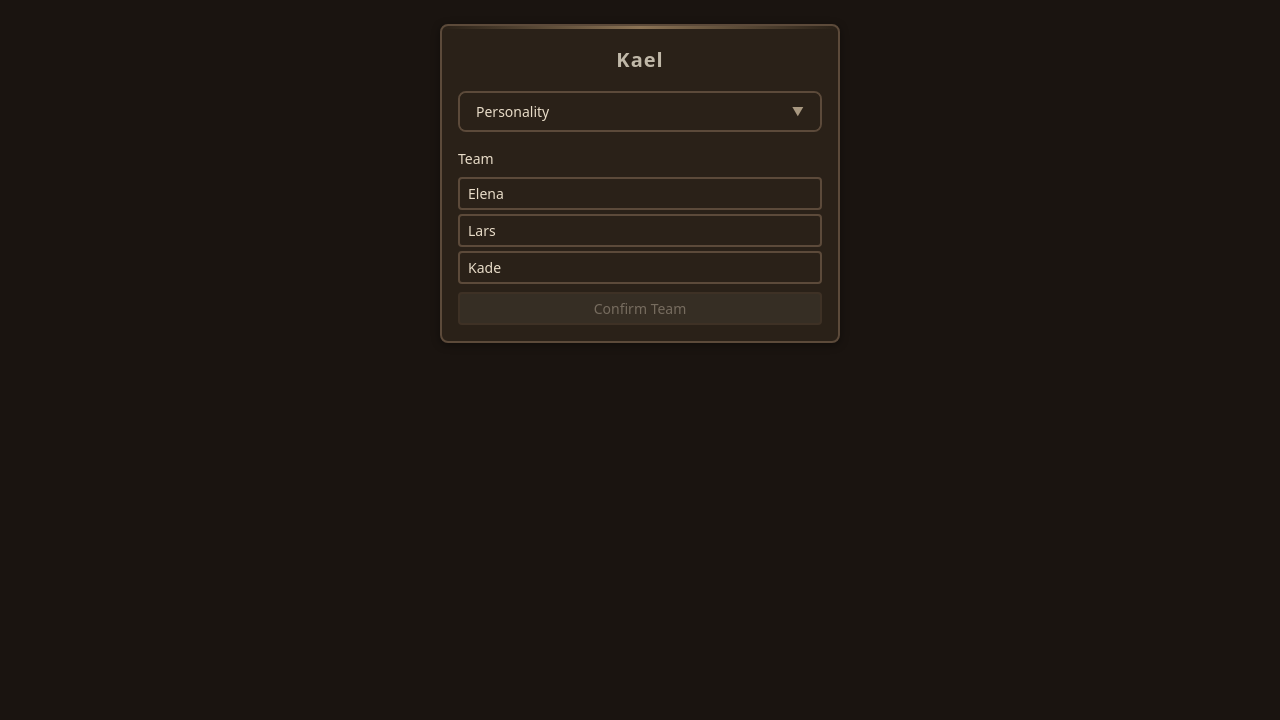
it: App › updates the HUD team after picking two companions and confirming
Click the button "Elena". click: point(486, 194)
box: [458, 177, 822, 210]
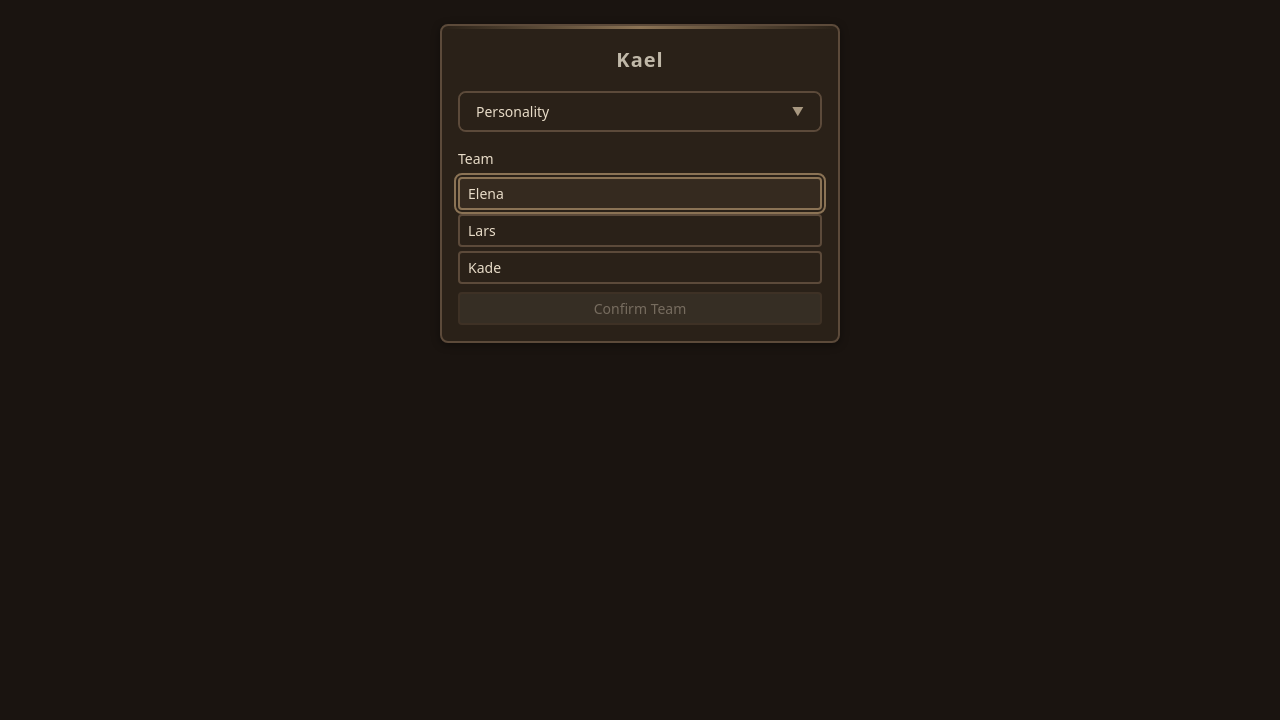
Click the button "Kade". click: point(485, 268)
box: [458, 251, 822, 284]
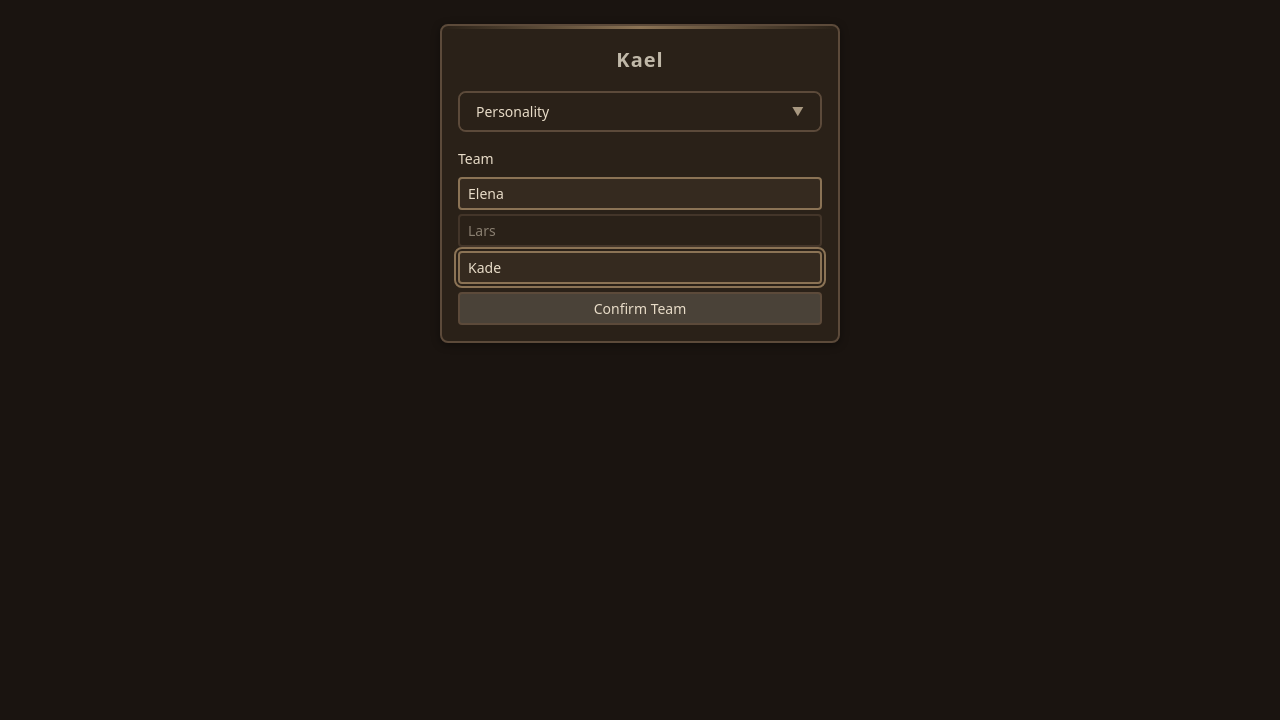
Click the button "Confirm Team". click: point(640, 308)
box: [458, 292, 822, 325]
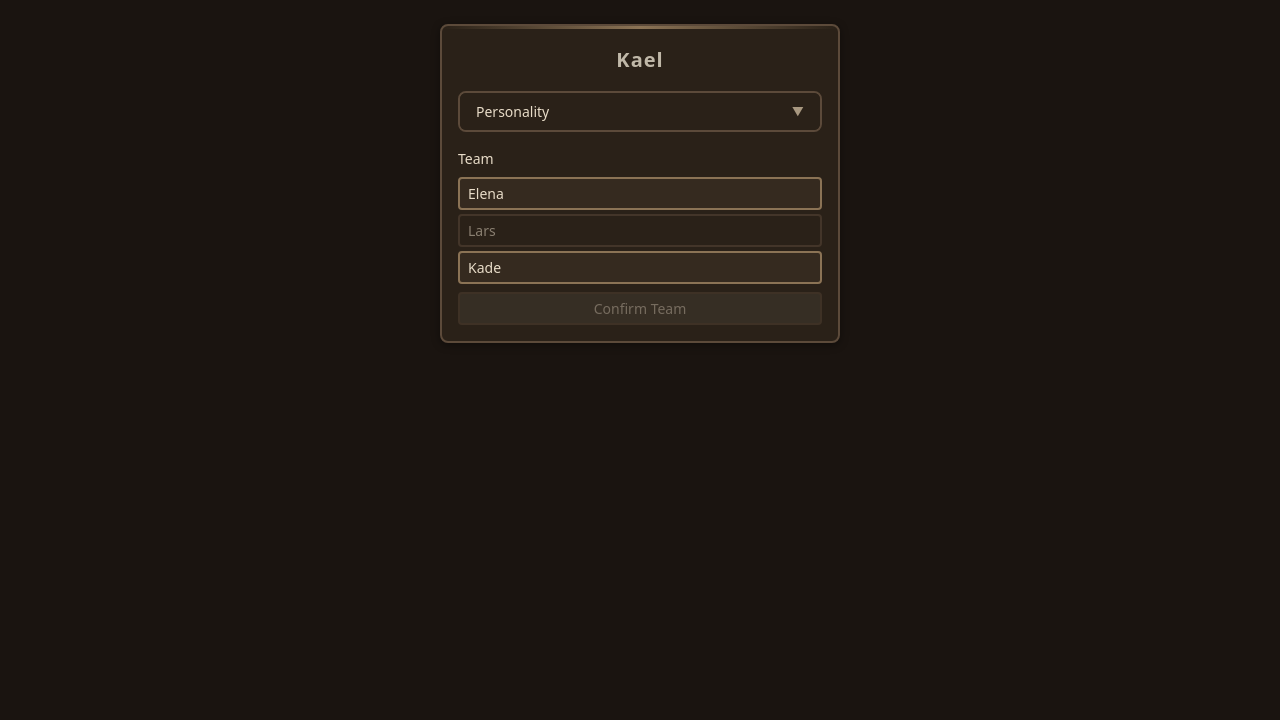
expect the button "Confirm Team" is disabled: met, box [458, 292, 822, 325]
